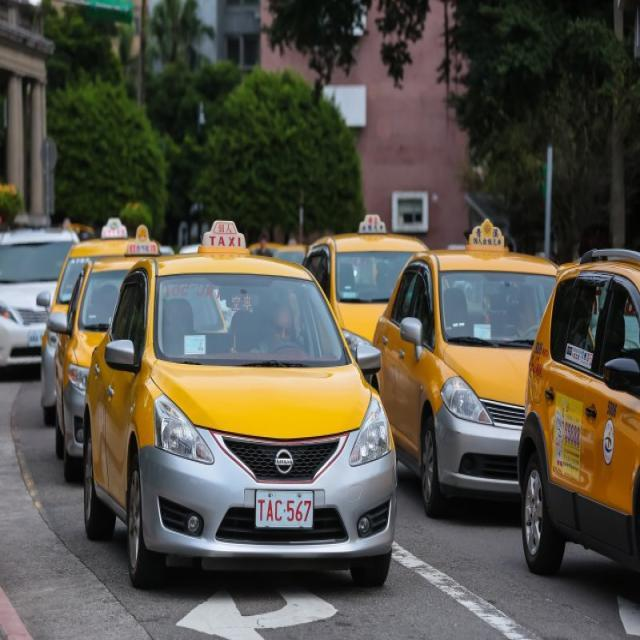Door: (374, 220, 556, 515), (518, 250, 640, 573)
Taxi: (80, 221, 395, 588)
